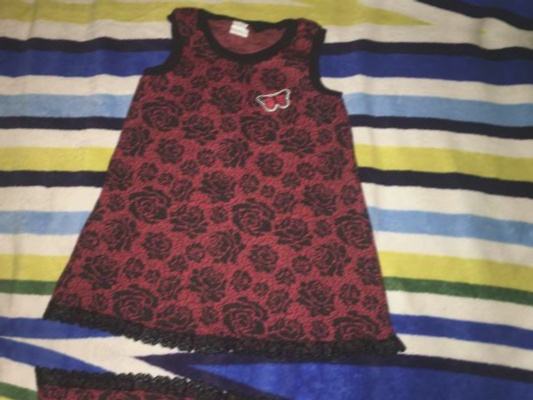Dress: (43, 0, 467, 387), (0, 356, 410, 400), (100, 0, 524, 14)
